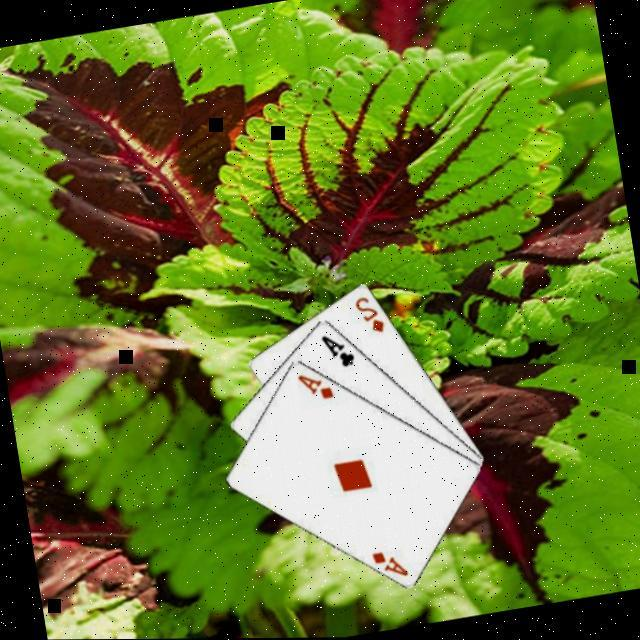2D: (352, 289, 389, 337)
AC: (318, 326, 360, 370)
AD: (294, 364, 338, 404), (368, 542, 412, 582)
